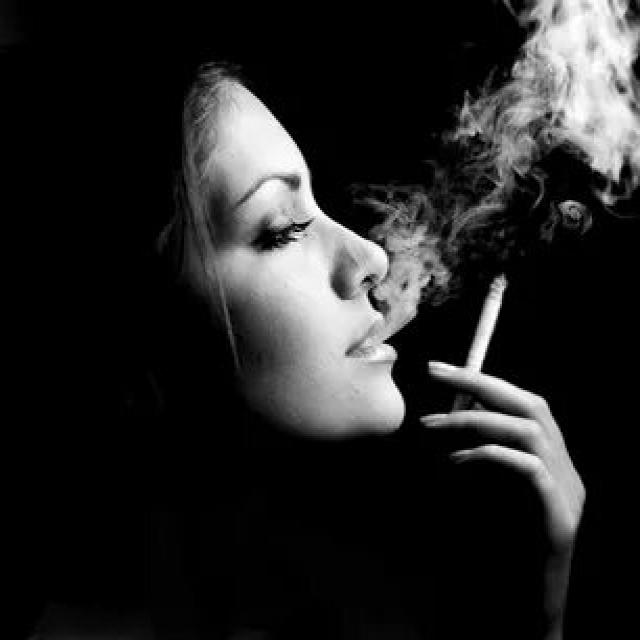cigarette: (452, 268, 516, 410)
